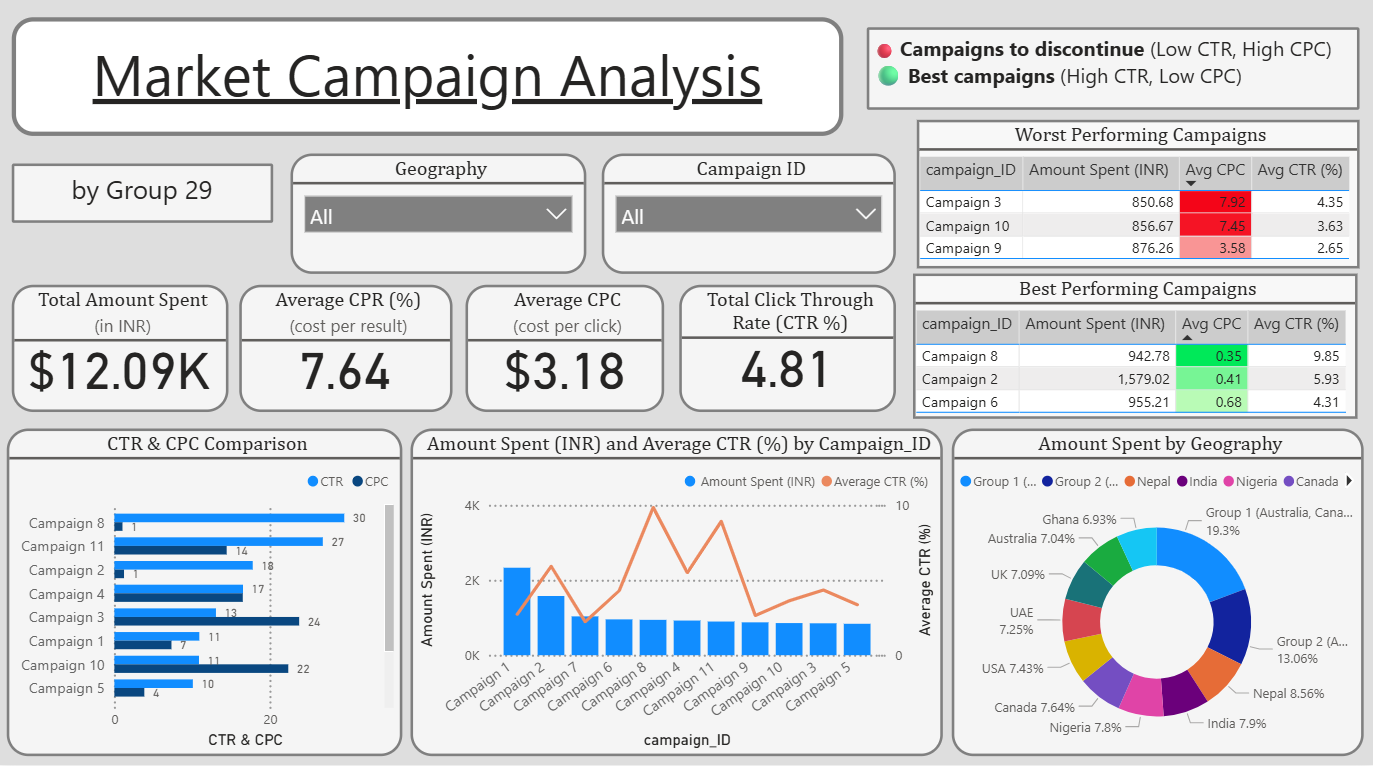

This screenshot's page, from the dashboard's own definition file:
{"tool":"powerbi","page":{"name":"Market Campaign Analysis","canvas":[1280,720],"ordinal":0},"visuals":[{"type":"card","title":"Total Amount Spent","fields":{"Values":["Sum(Marketing Team Data - Sheet1.Amount_Spent_in_INR)"]},"box":[13.3,273.3,201.7,118.3],"z":0},{"type":"card","title":"Average CPC","fields":{"Values":["Avg(Marketing Team Data - Sheet1.Cost_Per_Click (CPC))"]},"box":[435,273.3,185,118.3],"z":1000},{"type":"card","title":"Average CPR (%)","fields":{"Values":["Avg(Marketing Team Data - Sheet1.Cost_per_Result_(CPR))"]},"box":[225,273.3,198.3,118.3],"z":2000},{"type":"card","title":"Total Click Through Rate (CTR %)","fields":{"Values":["Avg(Marketing Team Data - Sheet1.Click_Through_Rate (CTR in %))"]},"box":[633.3,273.3,201.7,118.3],"z":3000},{"type":"slicer","title":"Campaign ID","fields":{"Values":["Marketing Team Data - Sheet1.campaign_ID"]},"box":[561.7,151.7,273.3,111.7],"z":4000},{"type":"clusteredBarChart","title":"CTR & CPC Comparison","fields":{"Category":["Marketing Team Data - Sheet1.campaign_ID"],"Y":["Sum(Marketing Team Data - Sheet1.Click_Through_Rate (CTR in %))","Sum(Marketing Team Data - Sheet1.Cost_Per_Click (CPC))"]},"box":[8.3,406.7,368.3,305],"z":5000},{"type":"textbox","box":[808.3,33.3,458.3,76.7],"z":6000},{"type":"donutChart","title":"Amount Spent by Geography","fields":{"Category":["Marketing Team Data - Sheet1.Geography"],"Y":["Sum(Marketing Team Data - Sheet1.Amount_Spent_in_INR)"]},"box":[886.7,406.7,383.3,305],"z":7000},{"type":"lineClusteredColumnComboChart","title":" Amount Spent (INR) and Average CTR (%) by Campaign_ID","fields":{"Category":["Marketing Team Data - Sheet1.campaign_ID"],"Y":["Sum(Marketing Team Data - Sheet1.Amount_Spent_in_INR)"],"Y2":["Avg(Marketing Team Data - Sheet1.Click_Through_Rate (CTR in %))"]},"box":[383.3,406.7,495,305],"z":8000},{"type":"tableEx","title":"Worst Performing Campaigns","fields":{"Values":["Marketing Team Data - Sheet1.campaign_ID","Sum(Marketing Team Data - Sheet1.Amount_Spent_in_INR)","Avg(Marketing Team Data - Sheet1.Cost_Per_Click (CPC))","Avg(Marketing Team Data - Sheet1.Click_Through_Rate (CTR in %))"]},"box":[855,120,411.7,138.3],"z":9000},{"type":"tableEx","title":"Best Performing Campaigns","fields":{"Values":["Marketing Team Data - Sheet1.campaign_ID","Sum(Marketing Team Data - Sheet1.Amount_Spent_in_INR)","Avg(Marketing Team Data - Sheet1.Cost_Per_Click (CPC))","Avg(Marketing Team Data - Sheet1.Click_Through_Rate (CTR in %))"]},"box":[851.7,263.3,413.3,135],"z":10000},{"type":"slicer","title":"Geography","fields":{"Values":["Marketing Team Data - Sheet1.Geography"]},"box":[271.7,151.7,275,111.7],"z":11000},{"type":"textbox","box":[13.3,25,773.3,110],"z":12000},{"type":"textbox","box":[13.3,160,243.3,55],"z":13000}]}

Visuals, with their boxes in screenshot pixels (x1, y1, x2, y2), scaled from the page's 1280x720 canvas onto the 1373x766 screenshot:
"Total Amount Spent" card: 14, 291, 231, 417
"Average CPC" card: 467, 291, 665, 417
"Average CPR (%)" card: 241, 291, 454, 417
"Total Click Through Rate (CTR %)" card: 679, 291, 896, 417
"Campaign ID" slicer: 603, 161, 896, 280
"CTR & CPC Comparison" clusteredBarChart: 9, 433, 404, 757
textbox: 867, 35, 1359, 117
"Amount Spent by Geography" donutChart: 951, 433, 1362, 757
" Amount Spent (INR) and Average CTR (%) by Campaign_ID" lineClusteredColumnComboChart: 411, 433, 942, 757
"Worst Performing Campaigns" tableEx: 917, 128, 1359, 275
"Best Performing Campaigns" tableEx: 914, 280, 1357, 424
"Geography" slicer: 291, 161, 586, 280
textbox: 14, 27, 844, 144
textbox: 14, 170, 275, 229
